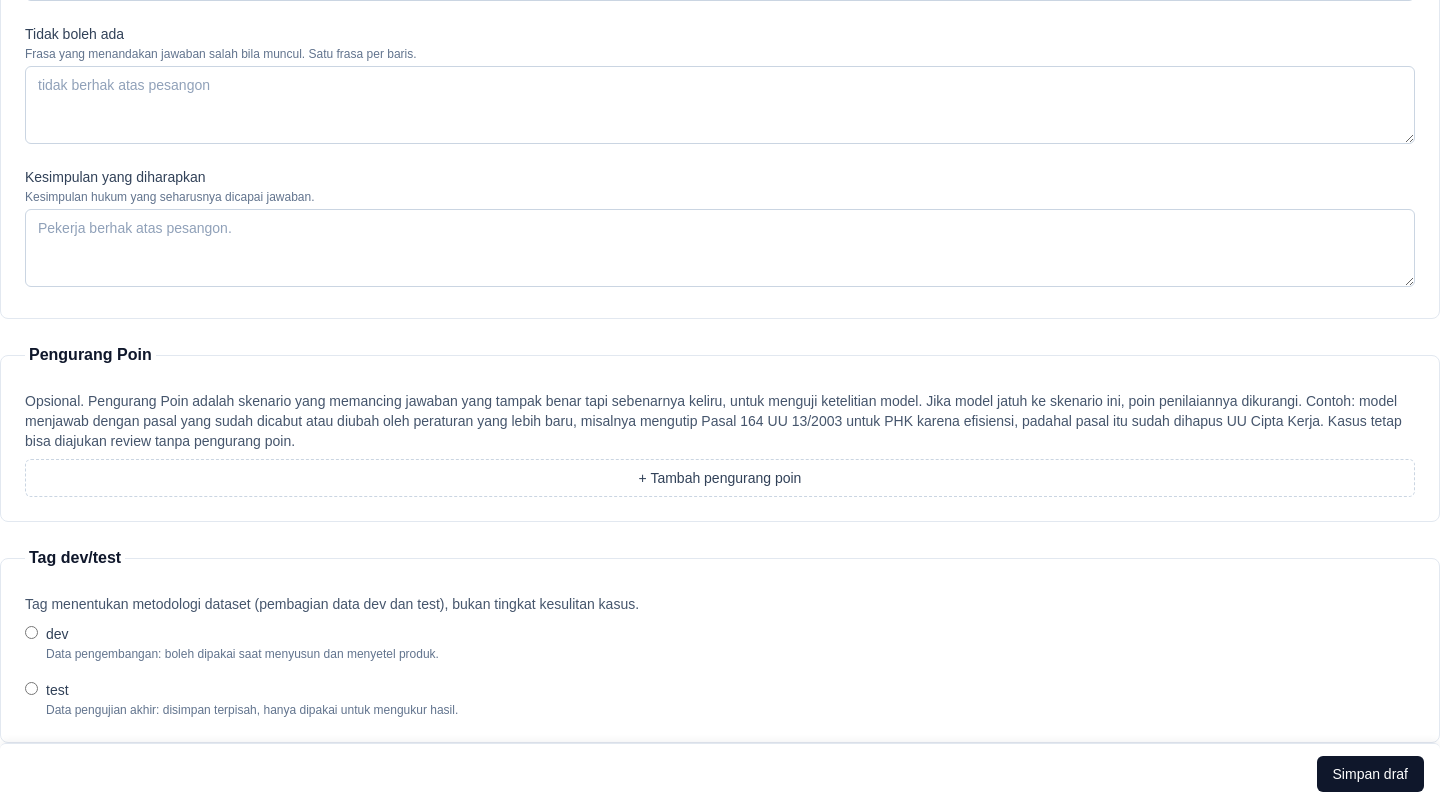
Test: CaseEditorForm › adds and removes trap rows
This screenshot has width=1440, height=804.
(page scrolled)
Click the button "+ Tambah pengurang poin" at [720, 478], box [25, 459, 1415, 497]
(page scrolled)
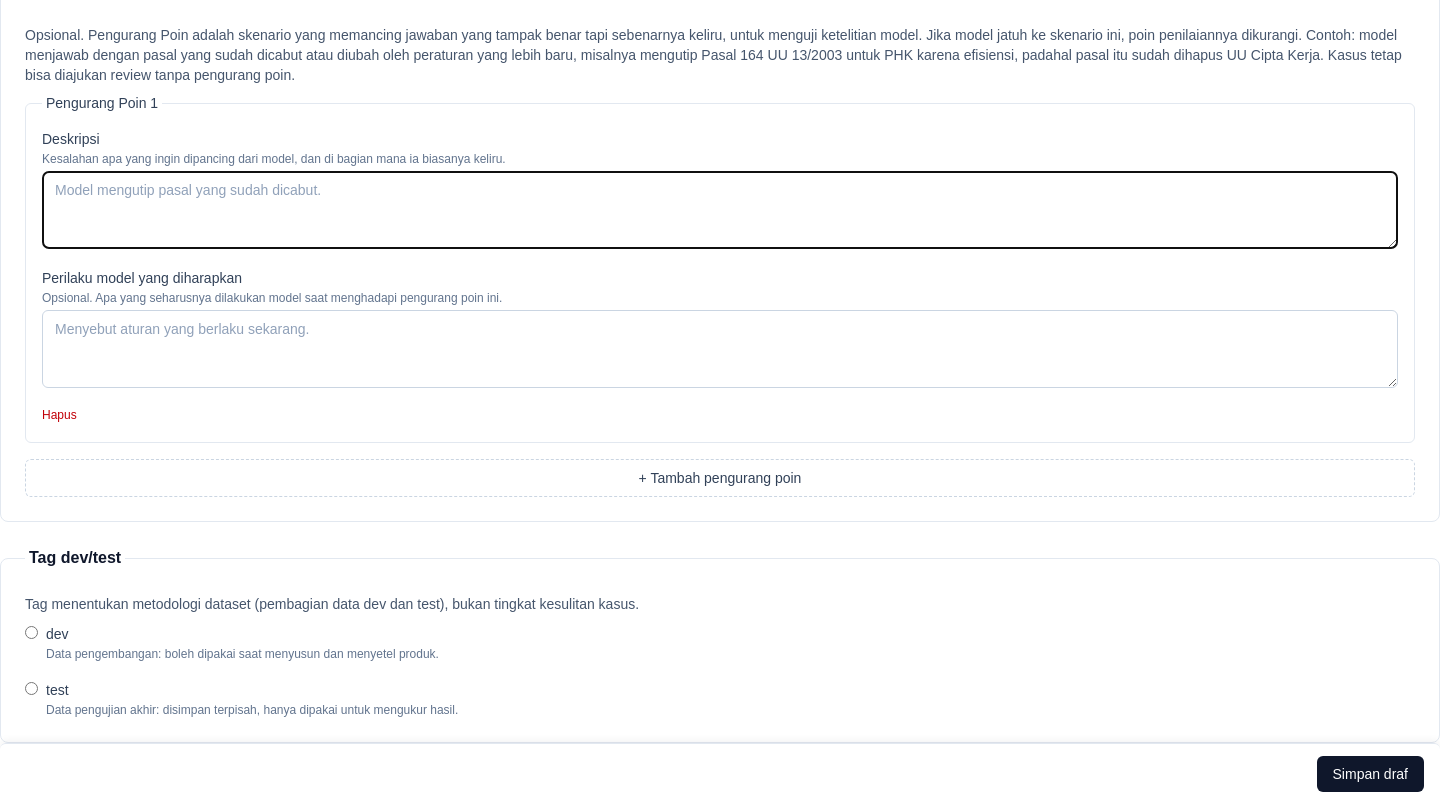
Click the button "+ Tambah pengurang poin" at [720, 478], box [25, 459, 1415, 497]
(page scrolled)
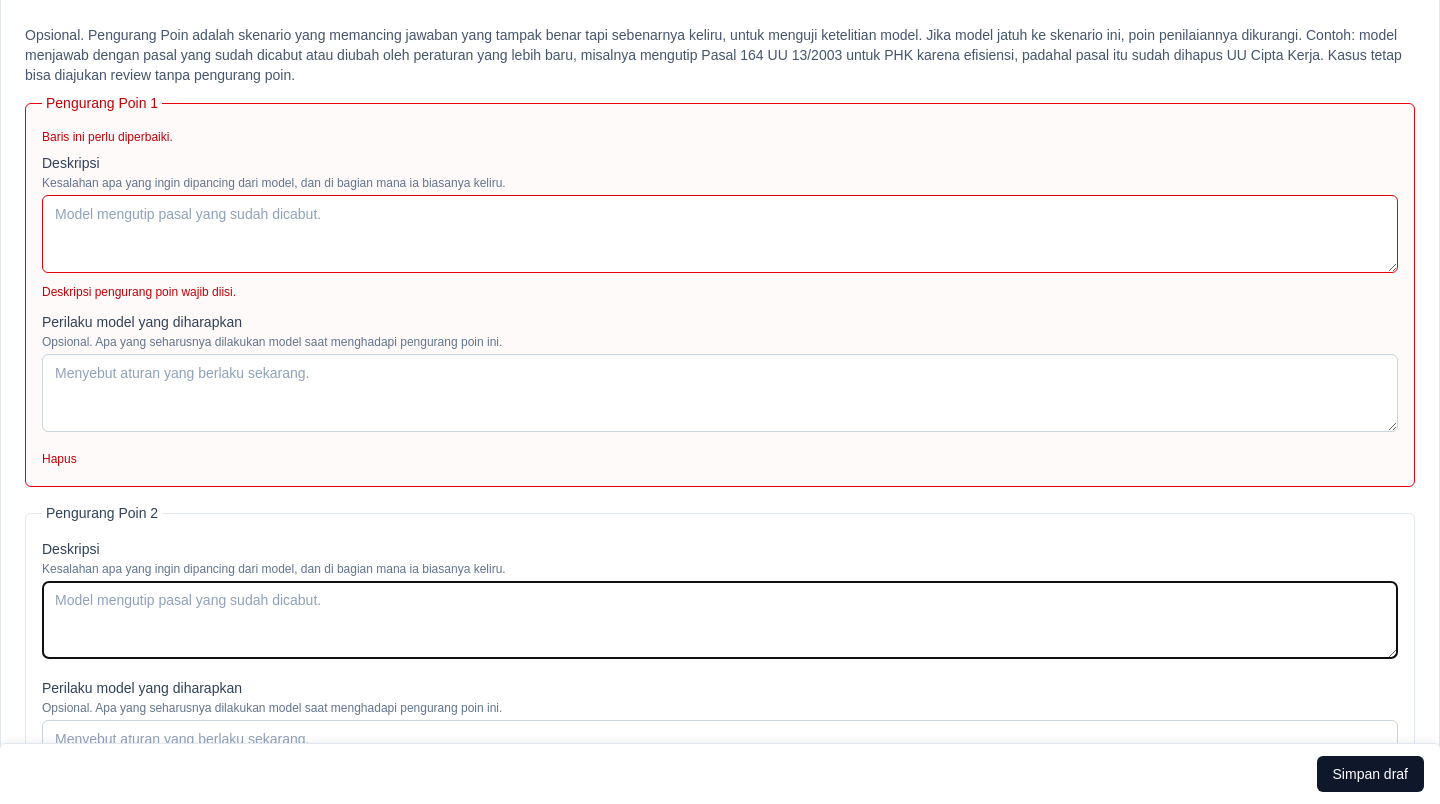
Type "Kedua" into the text box labelled "Deskripsi" below "Pengurang Poin 2" at [720, 620], box [42, 581, 1398, 659]
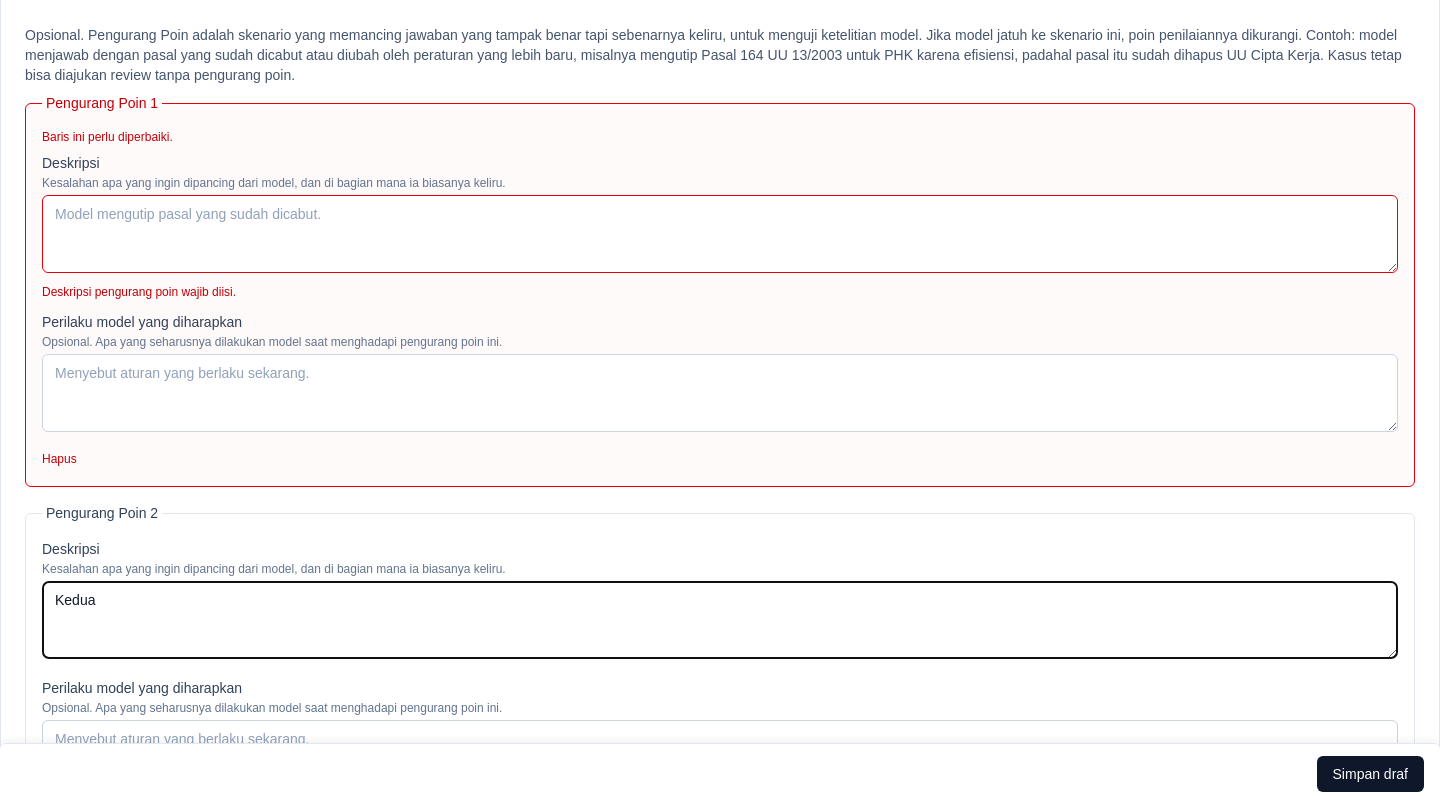
Click the button with aria-label "Hapus pengurang poin 1" at [59, 459], box [42, 451, 77, 467]
(page scrolled)
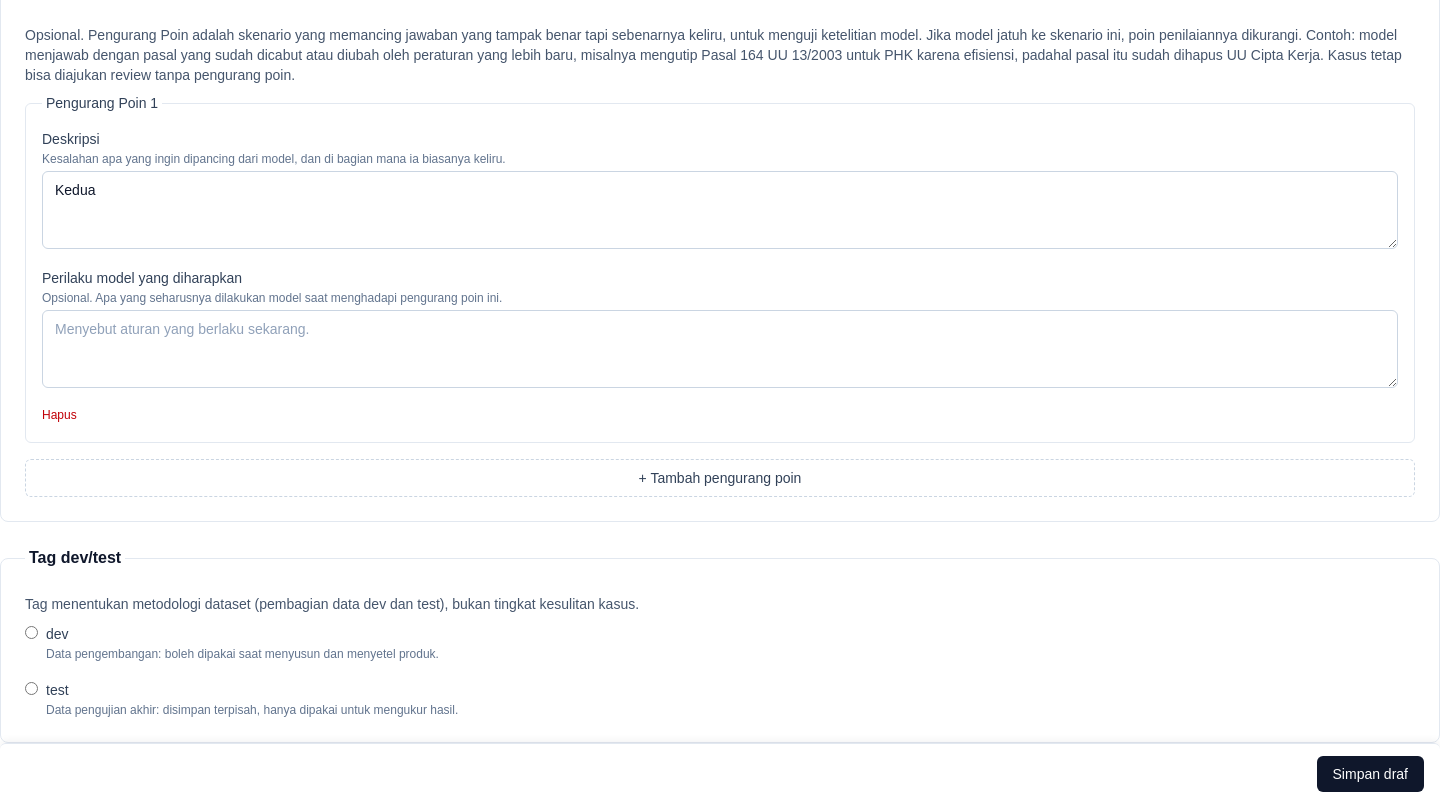
expect the text "Pengurang Poin 2" is gone: met
